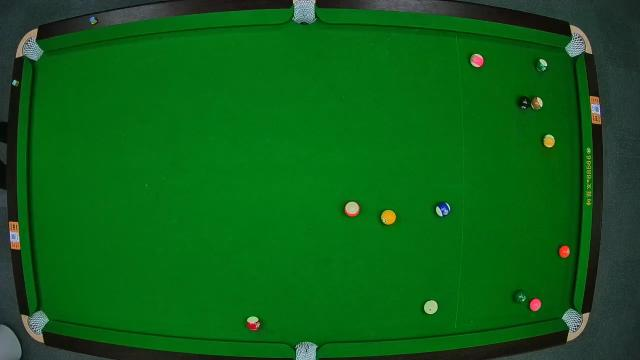bag1: (22, 38, 44, 60)
bag2: (291, 0, 317, 26)
bag3: (566, 29, 588, 57)
bag4: (29, 310, 49, 334)
bag5: (294, 340, 318, 360)
bag6: (563, 308, 585, 332)
ball0: (424, 300, 438, 316)
ball1: (380, 210, 396, 226)
ball10: (435, 202, 451, 218)
ball11: (246, 317, 260, 331)
ball12: (471, 52, 484, 68)
ball13: (344, 200, 361, 218)
ball14: (536, 59, 548, 73)
ball15: (532, 96, 544, 111)
ball4: (529, 299, 543, 313)
ball5: (560, 244, 572, 260)
ball6: (514, 291, 528, 303)
ball8: (516, 96, 532, 110)
ball9: (542, 134, 556, 148)
